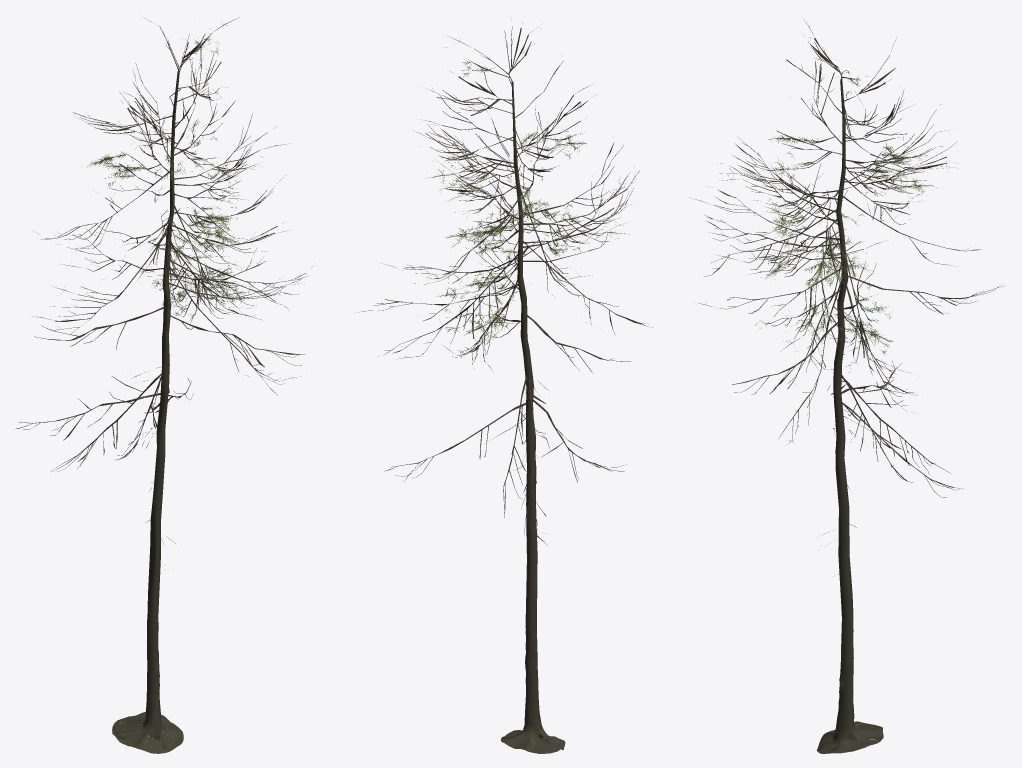
File: forest_fir.glb
3 views of the same model, side by side, from view 1: azimuth 30°, elevation 25°; view 2: azimuth 150°, elevation 25°; view 3: azimuth 270°, elevation 25° (orthographic). The views are drawn at different scales.
Visible parts, largest first — view 1: fir_tree_01_c_LOD0; view 2: fir_tree_01_c_LOD0; view 3: fir_tree_01_c_LOD0.
Part boxes in pixels (x1=…): fir_tree_01_c_LOD0: x1=14, y1=17, x2=312, y2=753; fir_tree_01_c_LOD0: x1=355, y1=22, x2=653, y2=753; fir_tree_01_c_LOD0: x1=691, y1=20, x2=1002, y2=753.
Size of the model in its own units: 6.06 by 14.41 by 5.69.
4 materials, 4 textured.
